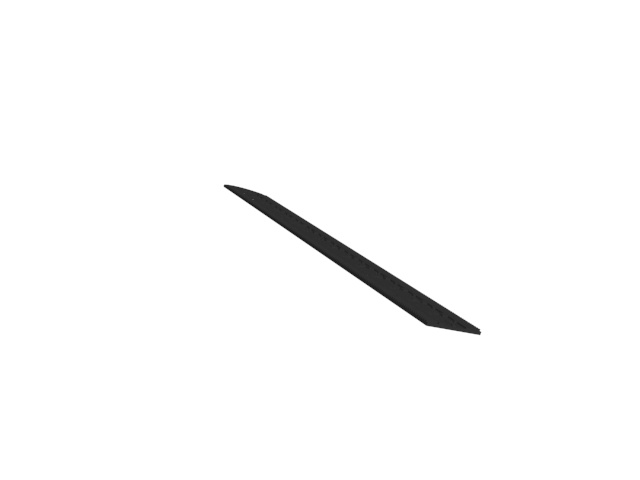ruler: (217, 185, 488, 336)
